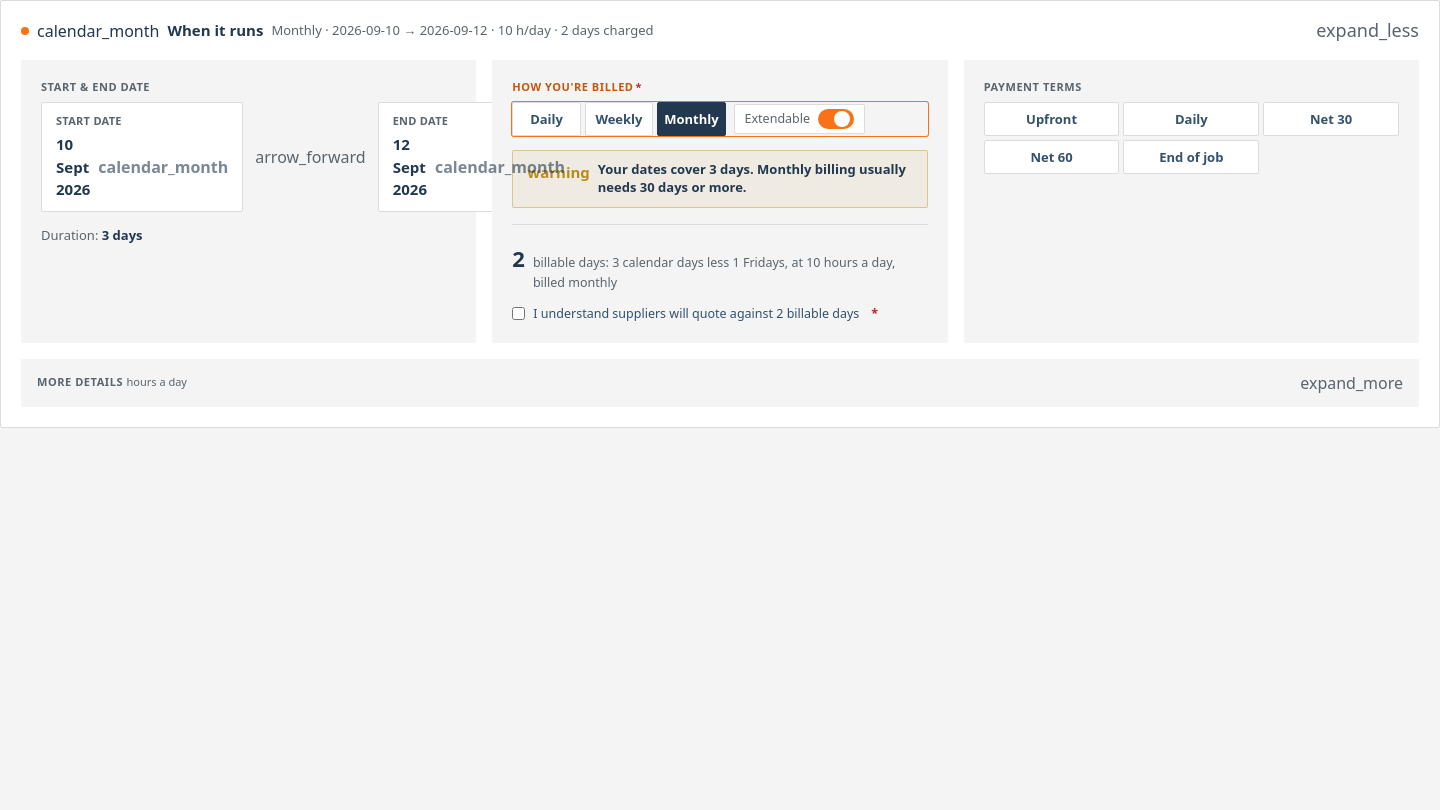
it: with the end date before the start date › refuses an end before the start
The image size is (1440, 810).
Click the button with aria-label "END DATE".
click(479, 167)  # box [393,133,565,201]
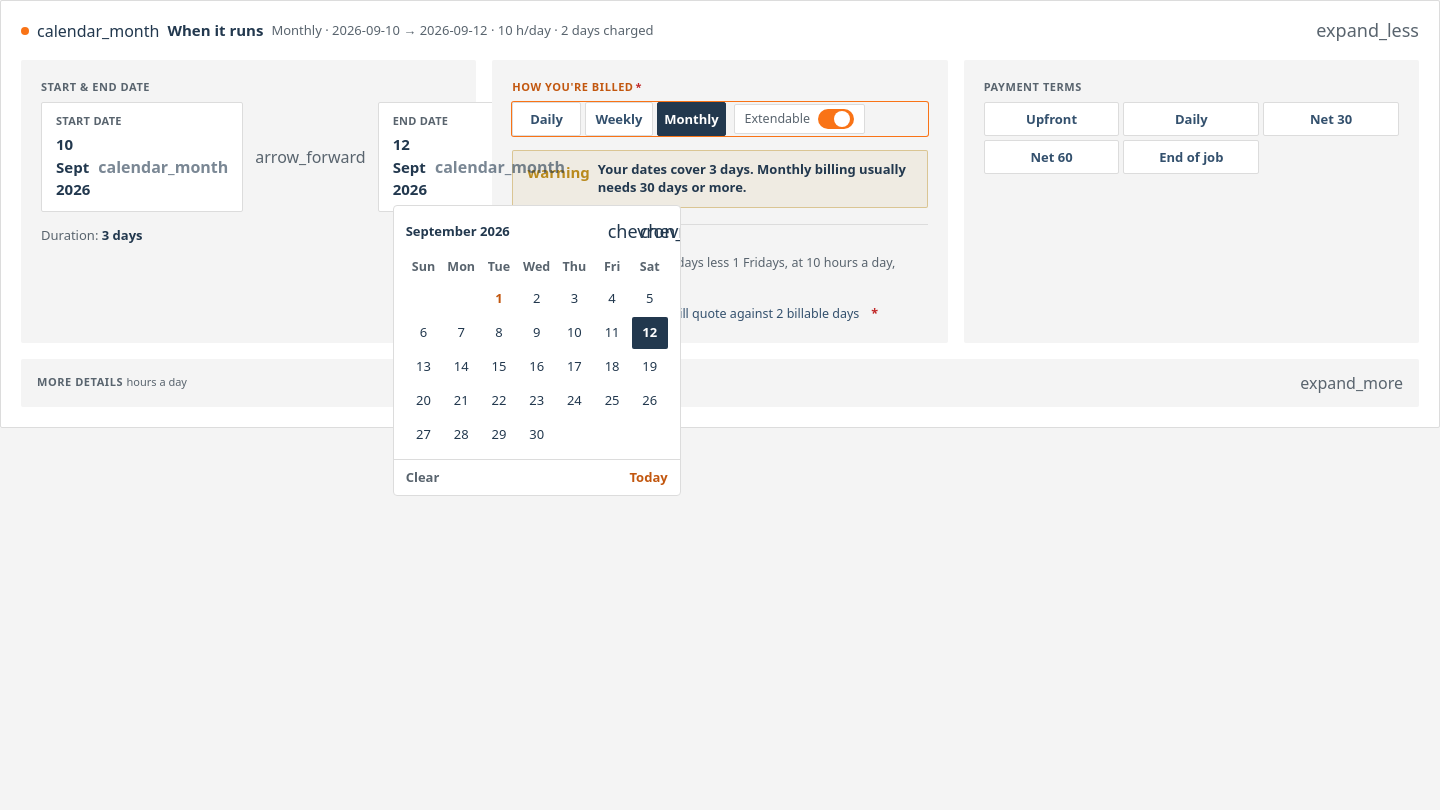
Click the button "5".
click(650, 298)  # box [632,282,668,314]
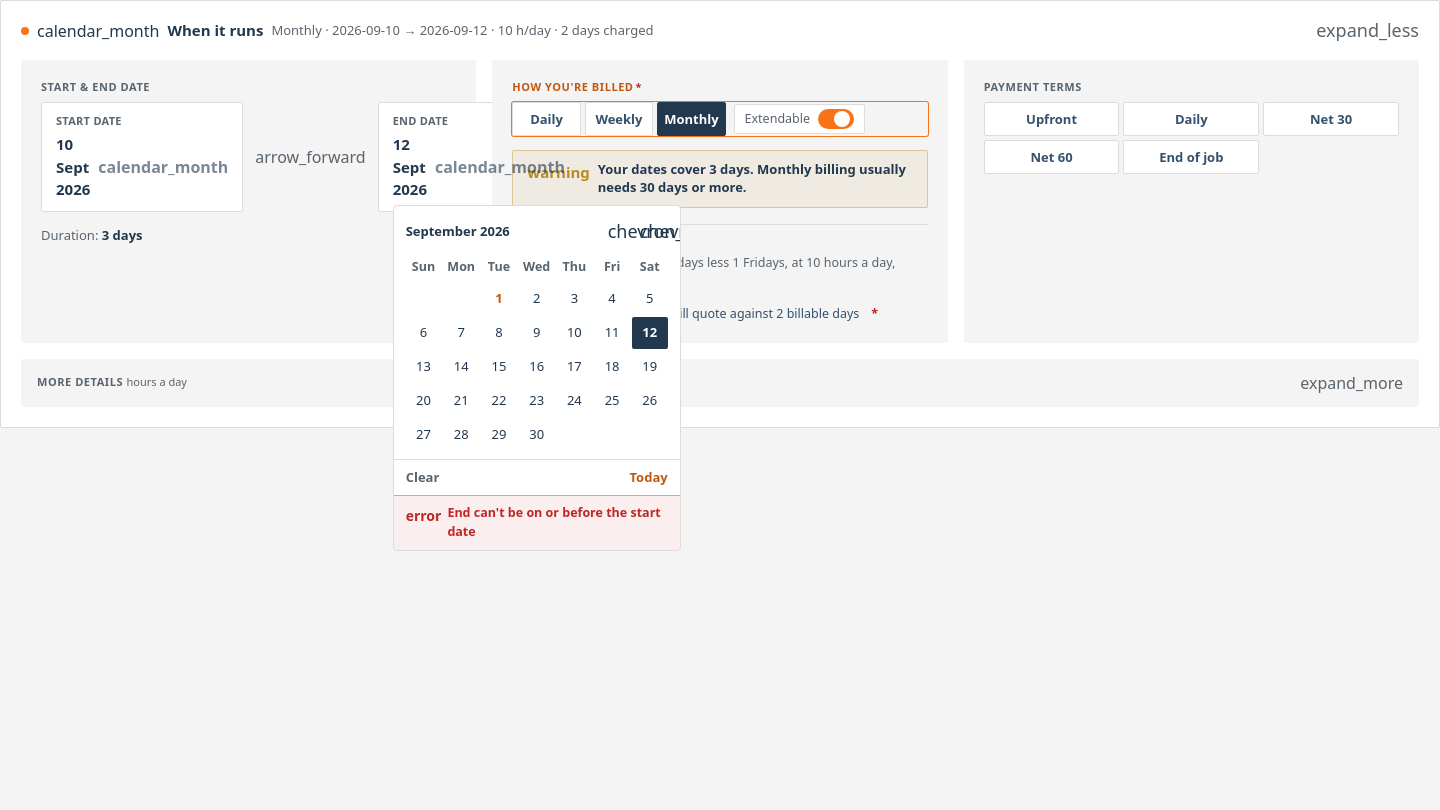
Now the message shows "End can't be on or before the start date", box [447,504,661,540]
